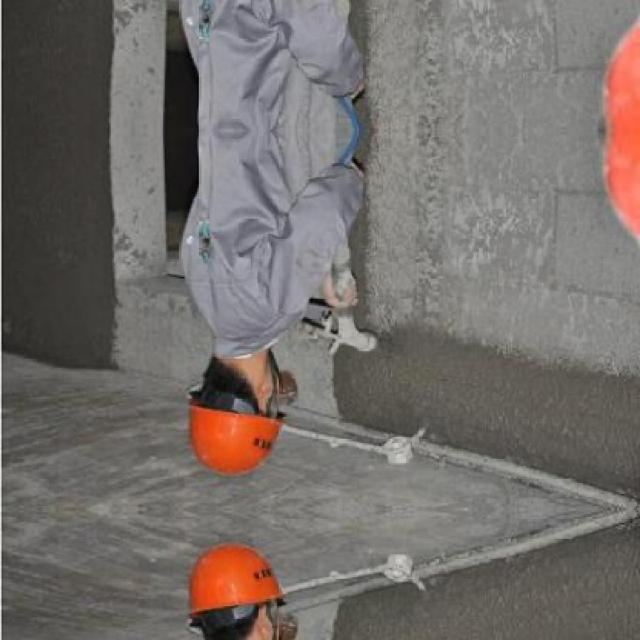con casco: (168, 353, 292, 478), (139, 565, 311, 640)
